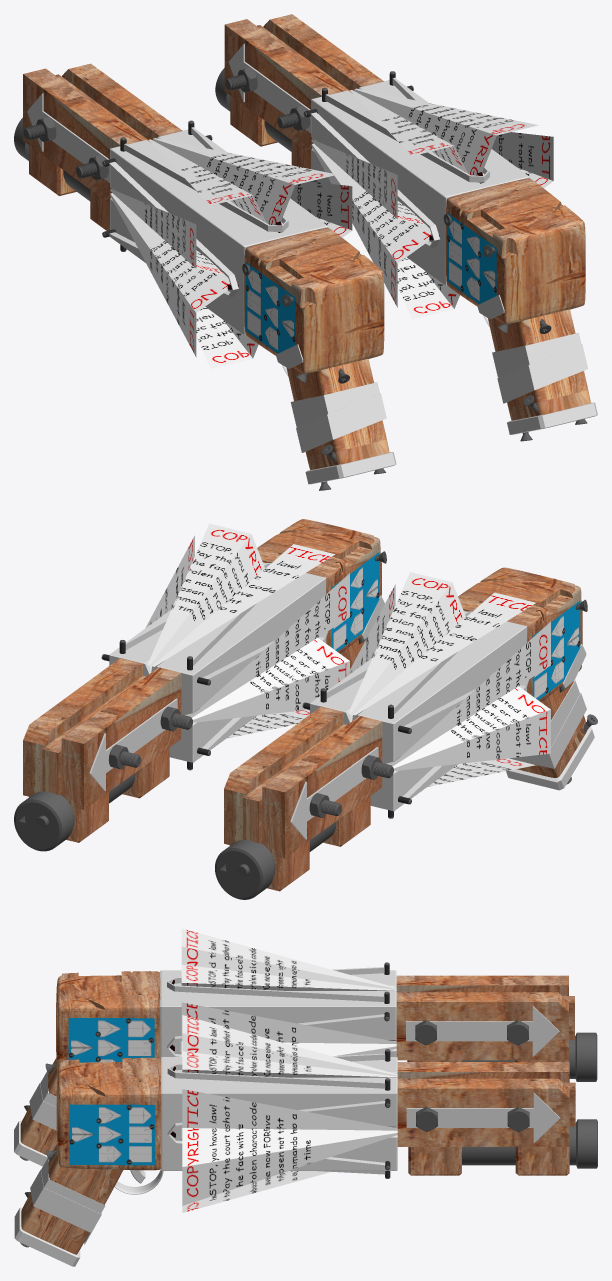
Rendered from PaperAirplaneLauncher.fbx.
3 renders of one model, top to bottom at view 1: azimuth 30°, elevation 25°; view 2: azimuth 150°, elevation 25°; view 3: azimuth 270°, elevation 25°, orthographic. The views are drawn at different scales.
Visible parts, largest first — view 1: Gun|Plane|Dupli|28, Plane, Gun|Cube.003|Dupli|12, Cube.003, Gun|Cube.001|Dupli|10, Cube.001, Cube.002, Gun|Cube.002|Dupli|11, Gun|Cube.005|Dupli|14, Cube.005, Gun|Plane.001|Dupli|29, Plane.001 (+12 smaller); view 2: Gun|Plane|Dupli|28, Plane, Cube.002, Gun|Cube.002|Dupli|11, Cube.001, Gun|Cube.001|Dupli|10, Gun|Cube.003|Dupli|12, Cube.003, Cylinder.002, Gun|Cylinder.002|Dupli|24, Plane.003, Gun|Plane.003|Dupli|30 (+15 smaller); view 3: Plane, Gun|Cube.002|Dupli|11, Cube.002, Gun|Plane|Dupli|28, Cube.001, Gun|Cube.001|Dupli|10, Cube.003, Gun|Cube.003|Dupli|12, Plane.003, Cube.005, Gun|Plane.003|Dupli|30, Cube.008 (+14 smaller).
Part boxes in pixels (bbox=[...]): Gun|Plane|Dupli|28: bbox=[110, 138, 352, 368]; Plane: bbox=[311, 88, 553, 319]; Gun|Cube.003|Dupli|12: bbox=[244, 228, 384, 373]; Cube.003: bbox=[445, 178, 585, 324]; Gun|Cube.001|Dupli|10: bbox=[110, 129, 328, 334]; Cube.001: bbox=[311, 80, 529, 285]; Cube.002: bbox=[224, 14, 383, 154]; Gun|Cube.002|Dupli|11: bbox=[23, 63, 182, 203]; Gun|Cube.005|Dupli|14: bbox=[286, 359, 389, 470]; Cube.005: bbox=[488, 309, 590, 420]; Gun|Plane.001|Dupli|29: bbox=[290, 382, 386, 452]; Plane.001: bbox=[492, 333, 588, 403]; Gun|Plane|Dupli|28: bbox=[346, 572, 550, 786]; Plane: bbox=[145, 523, 349, 738]; Cube.002: bbox=[23, 658, 181, 809]; Gun|Cube.002|Dupli|11: bbox=[224, 706, 382, 858]; Cube.001: bbox=[109, 562, 326, 762]; Gun|Cube.001|Dupli|10: bbox=[310, 611, 527, 811]; Gun|Cube.003|Dupli|12: bbox=[458, 567, 582, 701]; Cube.003: bbox=[257, 519, 381, 653]; Cylinder.002: bbox=[14, 791, 73, 851]; Gun|Cylinder.002|Dupli|24: bbox=[215, 840, 274, 899]; Plane.003: bbox=[331, 552, 379, 651]; Gun|Plane.003|Dupli|30: bbox=[532, 601, 580, 700]; Plane: bbox=[182, 1015, 397, 1212]; Gun|Cube.002|Dupli|11: bbox=[396, 975, 568, 1060]; Cube.002: bbox=[397, 1062, 569, 1146]; Gun|Plane|Dupli|28: bbox=[181, 928, 396, 1056]; Cube.001: bbox=[161, 1057, 397, 1170]; Gun|Cube.001|Dupli|10: bbox=[160, 970, 396, 1058]; Cube.003: bbox=[56, 1057, 160, 1170]; Gun|Cube.003|Dupli|12: bbox=[56, 971, 160, 1073]; Plane.003: bbox=[69, 1104, 155, 1165]; Cube.005: bbox=[21, 1145, 123, 1254]; Gun|Plane.003|Dupli|30: bbox=[68, 1018, 154, 1062]; Cube.008: bbox=[408, 1147, 569, 1175].
Bounding box in the file's own units: 1688 × 1102 × 2714.
12 materials, 3 textured.
